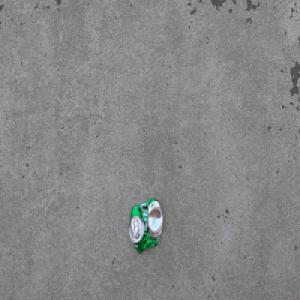SodaCan: (128, 197, 163, 255)
